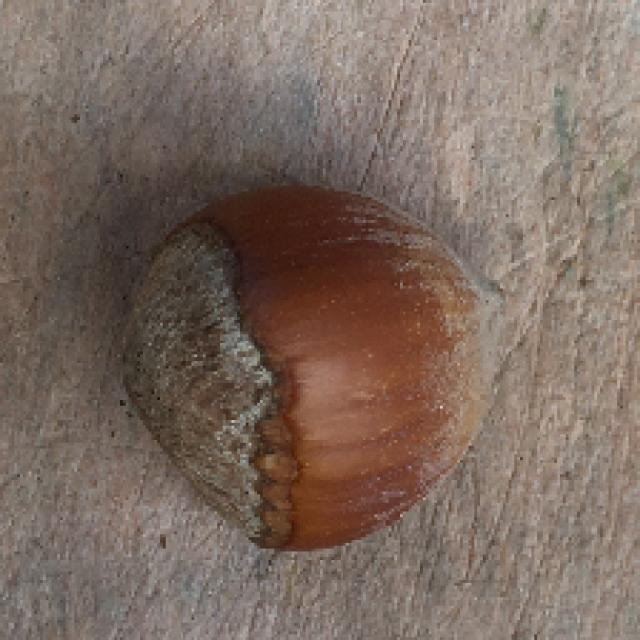qualityHazelnut: (119, 178, 500, 554)
